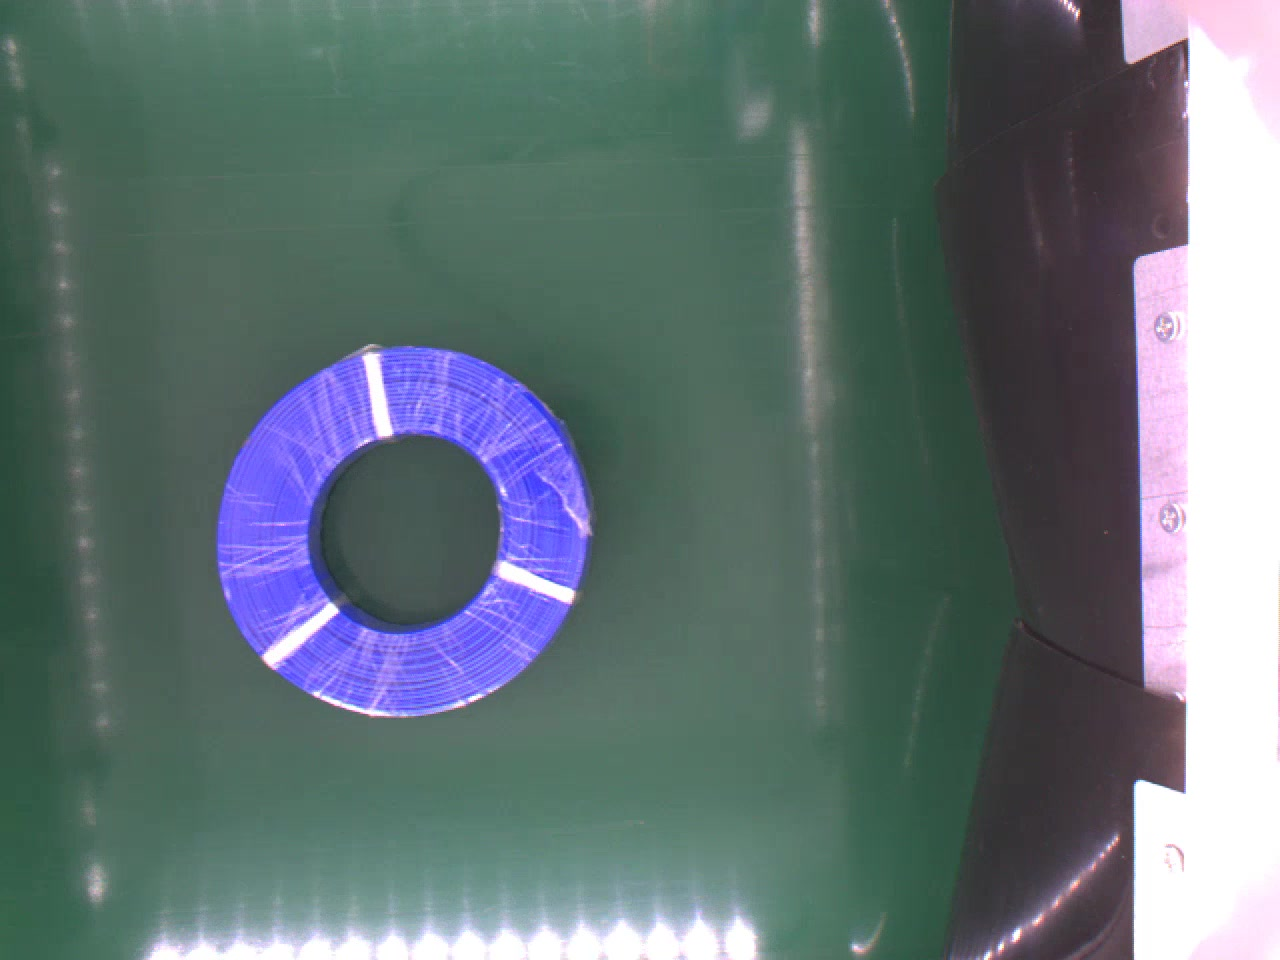blue: (214, 337, 605, 720)
